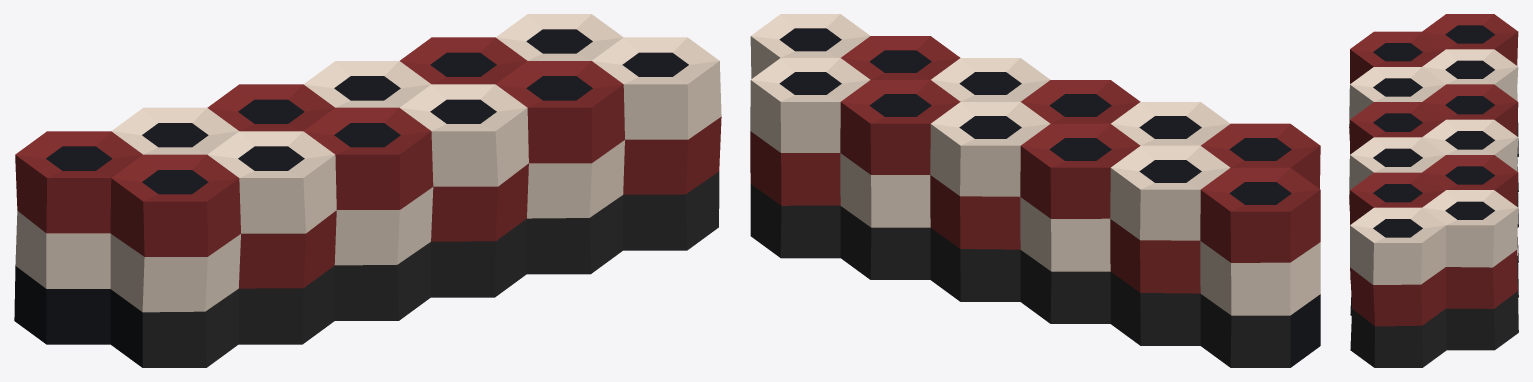
File: racing-tire-barrier-race.glb
The picture shows the model from 3 angles, left to right: view 1: azimuth 30°, elevation 25°; view 2: azimuth 150°, elevation 25°; view 3: azimuth 270°, elevation 25°; orthographic projection. The views are drawn at different scales.
Visible parts, largest first — view 1: tire-barrier-race; view 2: tire-barrier-race; view 3: tire-barrier-race.
Boxes of the visible parts, box(x1,y1,x2,y2) form: tire-barrier-race: box(14, 14, 721, 367); tire-barrier-race: box(750, 14, 1320, 367); tire-barrier-race: box(1349, 14, 1518, 367).
Bounding box in the file's own units: 5.43 × 1.38 × 1.7.
